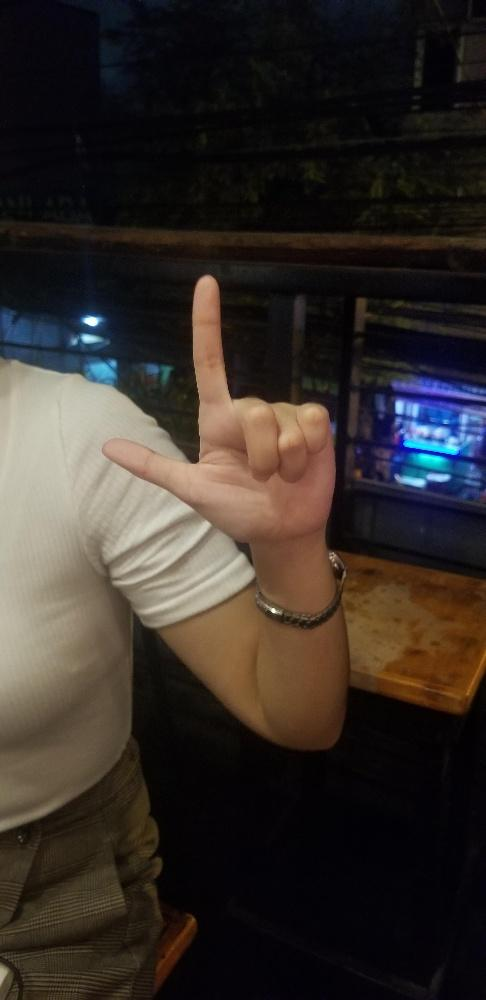l: (102, 273, 335, 535)
